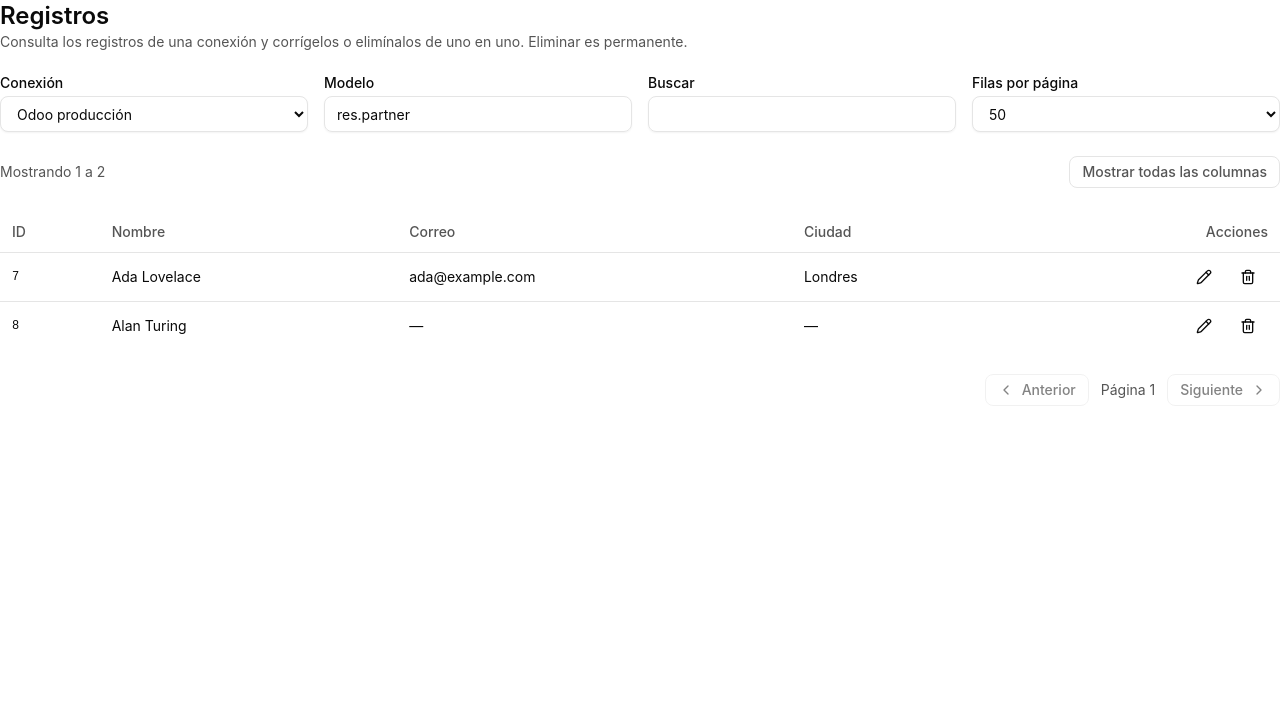
Test: RecordsPage edit › shows per-field errors and stays open
Click the button named "Editar Ada Lovelace": [1204, 276] box [1184,260,1224,292]
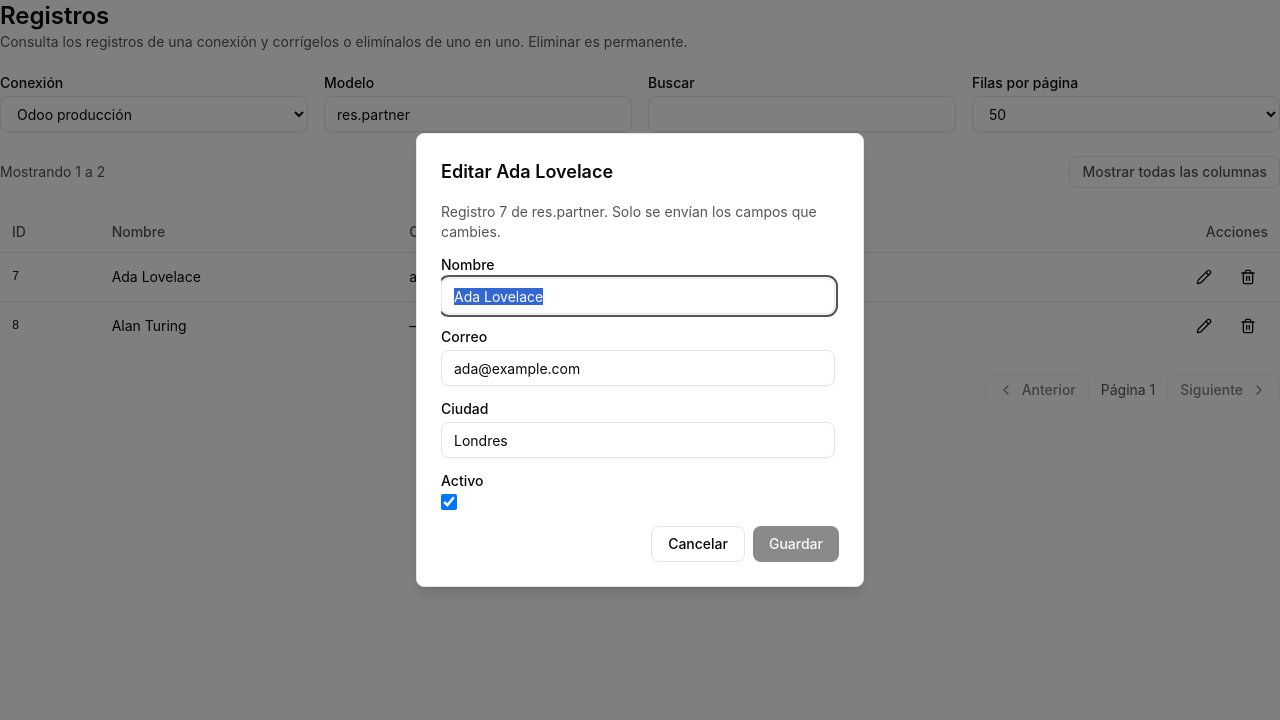
In the field labelled "Correo": [638, 368] box [441,350,835,386], type "x"
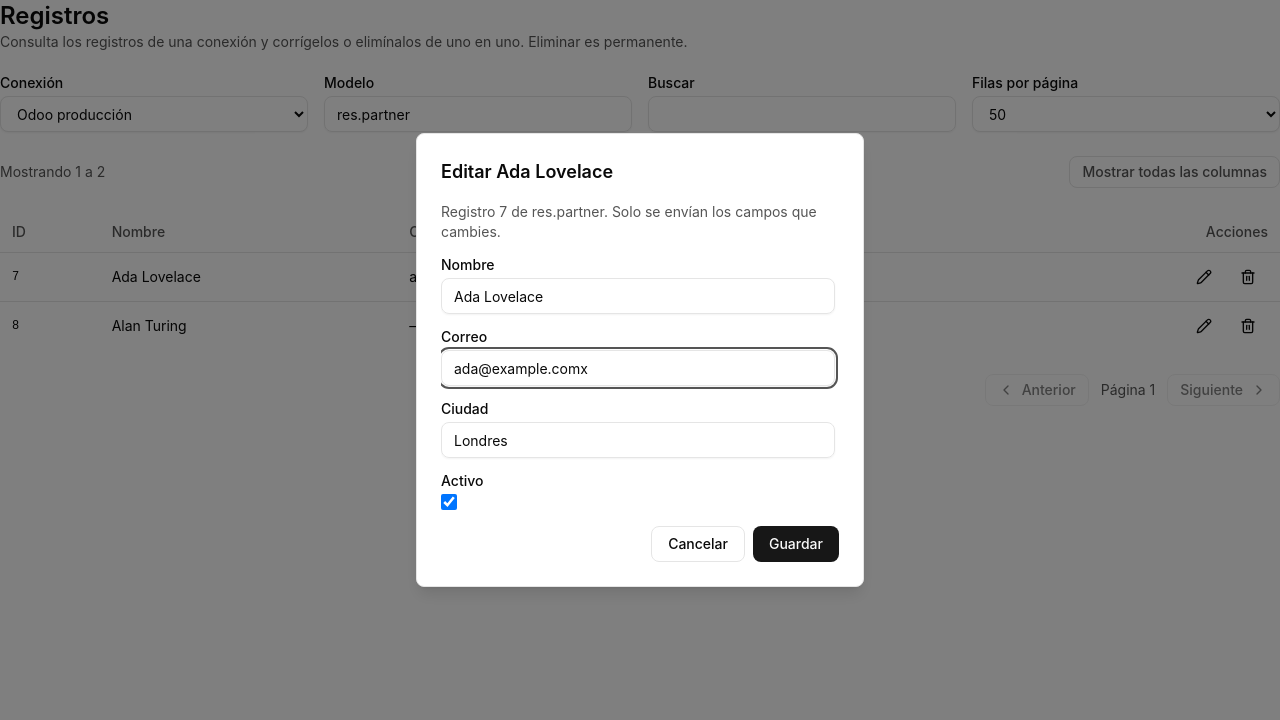
Click the button "Guardar": [796, 544] box [753,526,839,562]
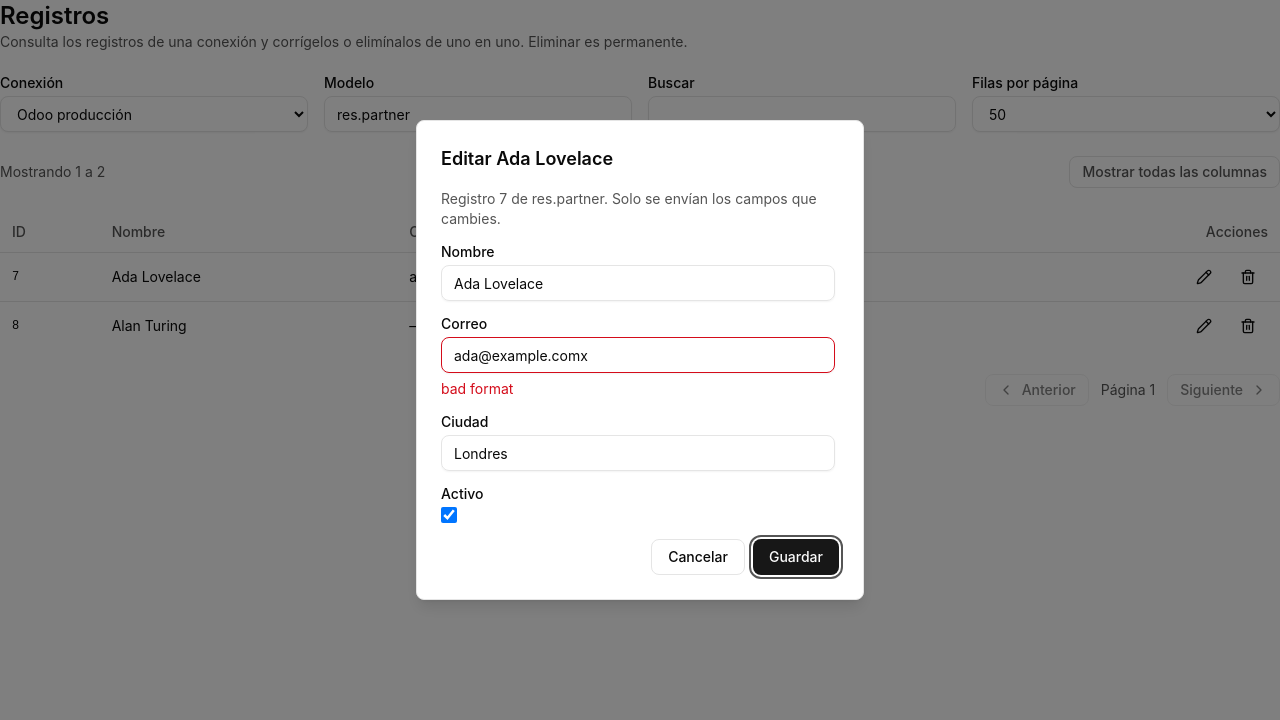
expect the text "bad format" is shown: met, box [441,380,514,397]
